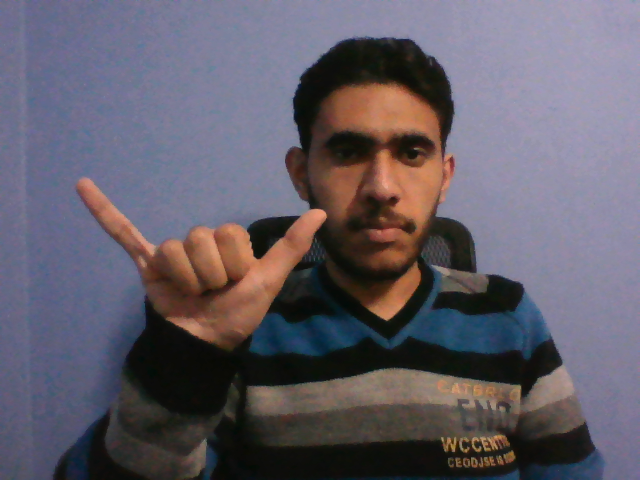Y: (71, 170, 331, 362)
